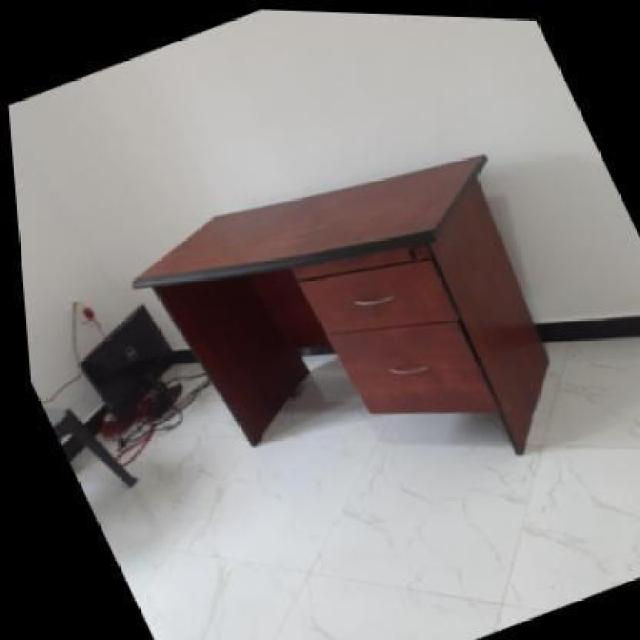tables: (131, 152, 551, 456)
